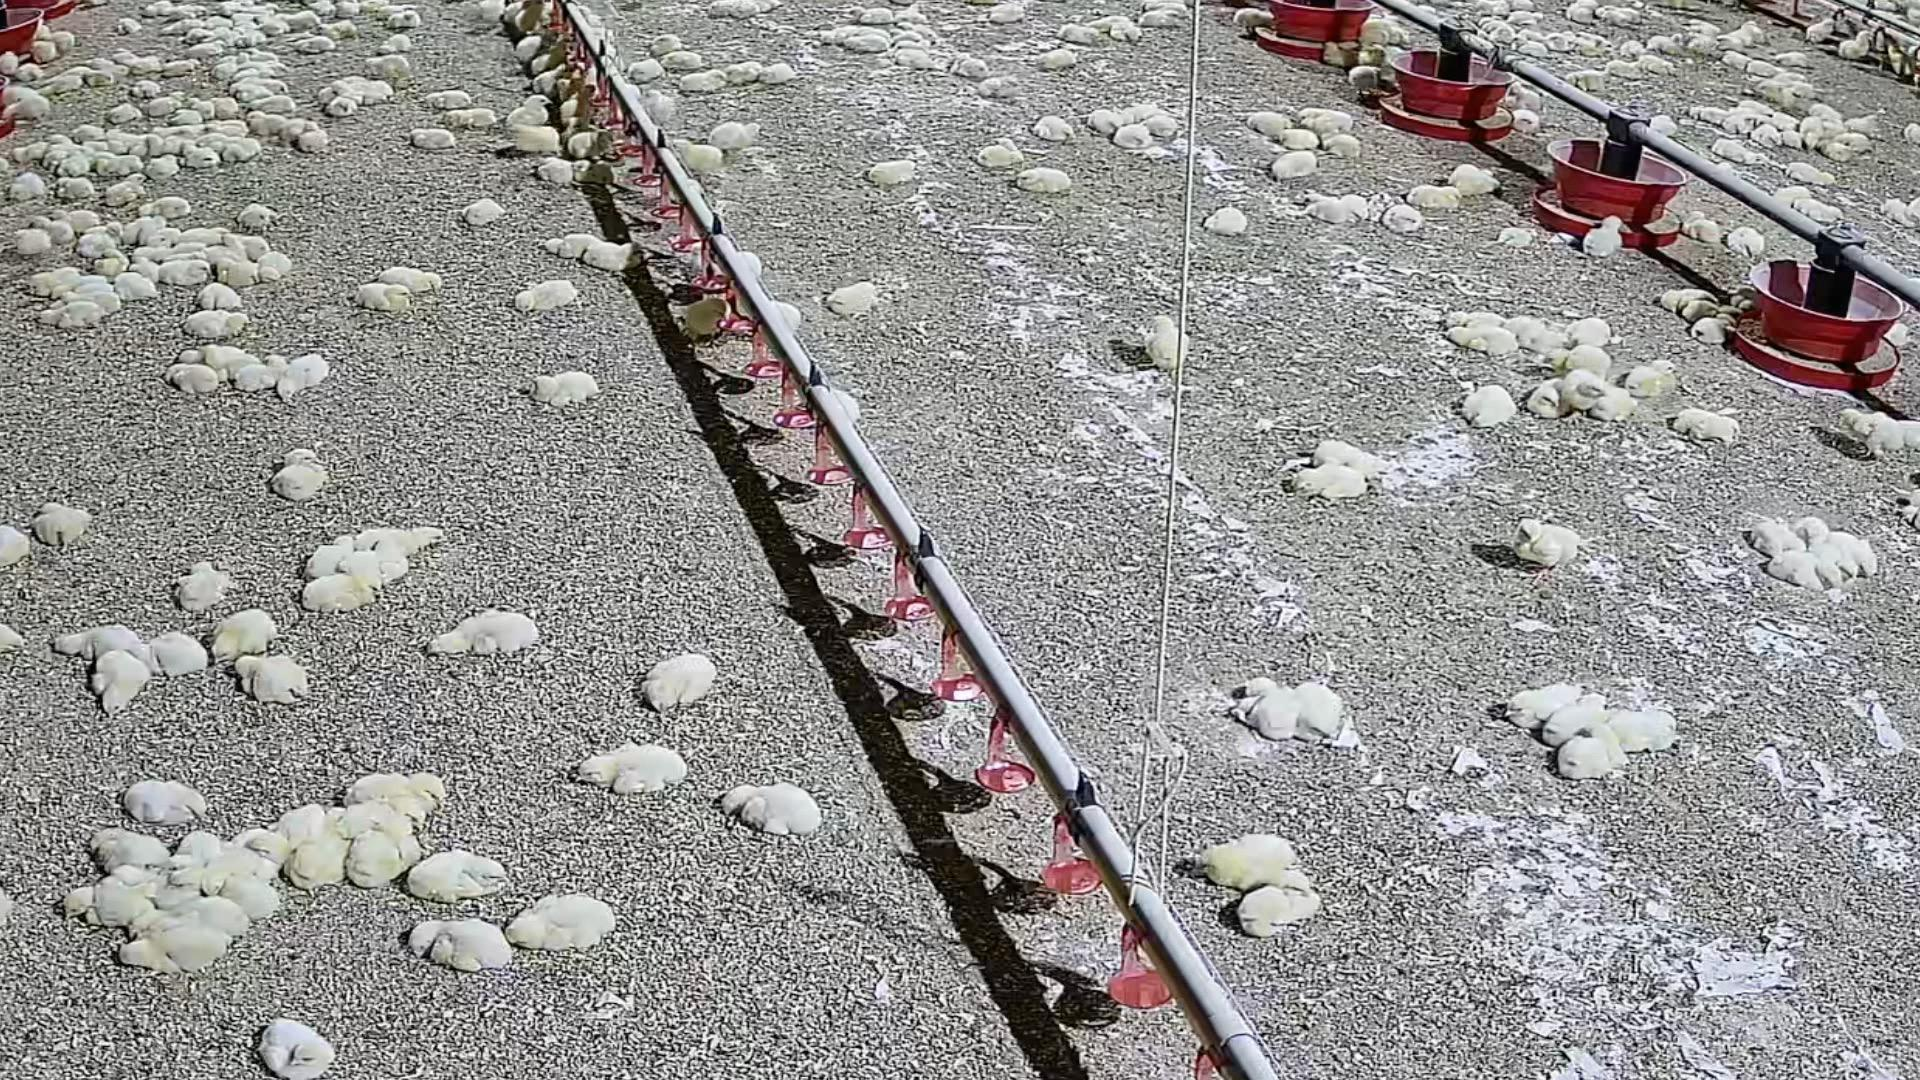poussin: (505, 890, 640, 944), (1196, 839, 1323, 890), (578, 742, 699, 793), (393, 849, 512, 898), (407, 913, 520, 964), (256, 1017, 344, 1080), (123, 928, 239, 975), (1247, 674, 1344, 729), (429, 609, 539, 657), (1234, 692, 1327, 749), (728, 786, 827, 836), (204, 829, 280, 894), (1241, 881, 1319, 939), (1605, 695, 1688, 749), (647, 655, 723, 715), (59, 881, 153, 928), (174, 870, 278, 913), (124, 901, 262, 932), (1509, 517, 1580, 576), (1801, 518, 1876, 574), (1527, 695, 1609, 745), (340, 771, 451, 808), (348, 827, 415, 886), (235, 653, 310, 705), (334, 799, 426, 841), (94, 647, 148, 717), (152, 832, 215, 890), (1502, 680, 1578, 727), (262, 807, 336, 855), (281, 844, 356, 890), (1138, 313, 1188, 377), (86, 828, 167, 868), (214, 609, 273, 663), (1842, 405, 1895, 462), (1553, 738, 1629, 778), (175, 563, 232, 613), (1294, 463, 1375, 497), (527, 369, 600, 407), (1675, 407, 1745, 447), (340, 551, 414, 588), (1313, 438, 1386, 475), (125, 783, 208, 815), (142, 637, 204, 679), (1776, 553, 1834, 597), (302, 576, 377, 611), (50, 630, 141, 658), (686, 298, 731, 353), (585, 236, 646, 277), (37, 505, 94, 549), (276, 448, 326, 497), (274, 360, 332, 401), (360, 526, 450, 553), (1464, 386, 1515, 429), (1506, 318, 1563, 355), (306, 537, 353, 580), (1547, 344, 1614, 375), (513, 280, 578, 310), (1323, 44, 1390, 73), (825, 281, 878, 318), (219, 257, 285, 286), (510, 125, 567, 158), (670, 136, 720, 173), (1838, 25, 1882, 67), (166, 367, 222, 400), (187, 313, 252, 340), (1584, 215, 1626, 257), (385, 269, 446, 298), (864, 156, 919, 187), (1300, 193, 1364, 220), (1629, 360, 1676, 397), (1818, 545, 1861, 585), (1712, 135, 1768, 165), (558, 84, 595, 131), (1443, 332, 1523, 353), (237, 357, 289, 390), (506, 96, 556, 129), (360, 284, 414, 314), (712, 120, 764, 152), (1565, 368, 1600, 415), (1033, 116, 1083, 148), (760, 303, 806, 338), (1592, 385, 1638, 419), (572, 158, 620, 191), (204, 136, 265, 161), (1448, 164, 1499, 193), (1793, 198, 1845, 227), (199, 345, 258, 371), (1014, 167, 1073, 193), (1749, 520, 1804, 546), (976, 138, 1023, 169), (1568, 316, 1611, 349), (38, 306, 115, 324), (103, 173, 149, 203), (198, 282, 244, 313), (1274, 152, 1320, 182), (531, 61, 574, 94), (0, 527, 32, 571), (1505, 82, 1552, 111), (827, 389, 862, 427), (1295, 107, 1356, 129), (1228, 7, 1279, 33), (1783, 160, 1833, 186), (79, 223, 124, 252), (1382, 203, 1423, 235), (50, 207, 99, 233), (459, 199, 506, 225), (1677, 301, 1735, 322), (676, 69, 725, 94), (164, 258, 210, 285), (1203, 208, 1249, 235), (1655, 291, 1720, 310), (236, 113, 286, 137), (1098, 15, 1139, 44), (1801, 16, 1846, 42), (1684, 210, 1720, 243), (1733, 225, 1766, 261), (516, 30, 554, 61), (55, 177, 99, 203), (239, 202, 282, 228), (1772, 47, 1816, 74), (233, 232, 274, 260), (530, 41, 571, 69), (539, 153, 572, 187), (361, 57, 409, 80), (1350, 65, 1386, 96), (1535, 380, 1567, 415), (8, 229, 53, 255), (891, 50, 936, 75), (1412, 185, 1462, 207), (1056, 21, 1095, 50), (1276, 128, 1323, 152), (113, 272, 157, 297), (36, 220, 76, 247), (1320, 133, 1361, 160), (8, 174, 45, 203), (550, 233, 604, 253), (409, 125, 454, 149), (1362, 18, 1410, 41), (1497, 225, 1542, 249), (1845, 109, 1887, 135), (109, 131, 149, 157), (1894, 417, 1919, 458), (181, 224, 232, 244), (62, 291, 121, 309), (978, 4, 1030, 24), (1697, 315, 1735, 342), (752, 65, 796, 87), (642, 90, 673, 123), (244, 98, 298, 116), (29, 269, 83, 287), (42, 73, 88, 94), (355, 78, 392, 104), (1643, 51, 1680, 78), (661, 49, 702, 73), (1800, 112, 1824, 153), (123, 216, 161, 241), (951, 53, 989, 78), (568, 135, 613, 156), (182, 142, 222, 166), (1145, 112, 1180, 138), (1448, 310, 1502, 327), (1033, 51, 1076, 73), (1247, 111, 1291, 132), (0, 618, 28, 651), (1106, 128, 1153, 148), (725, 58, 764, 82), (1087, 112, 1135, 131), (808, 21, 851, 42), (148, 154, 179, 182), (46, 29, 79, 55), (8, 100, 51, 120), (1501, 113, 1544, 133), (287, 36, 338, 53), (59, 154, 94, 179), (847, 8, 897, 25), (649, 32, 684, 55), (1648, 111, 1679, 138), (1572, 70, 1614, 90), (446, 112, 497, 128), (145, 198, 196, 214), (1514, 38, 1548, 62), (1609, 58, 1647, 79), (29, 40, 58, 67), (314, 21, 357, 40), (426, 94, 469, 112), (1734, 286, 1763, 314), (303, 121, 326, 157), (331, 82, 367, 104), (1775, 183, 1807, 208), (1135, 12, 1182, 29), (516, 0, 542, 29), (841, 37, 882, 55), (153, 123, 200, 138), (94, 156, 141, 171), (225, 82, 269, 99), (559, 69, 592, 91), (385, 13, 425, 32), (1485, 18, 1513, 45), (629, 58, 658, 83), (189, 41, 227, 59), (149, 95, 182, 116), (91, 58, 128, 76), (108, 105, 142, 125), (82, 67, 113, 88), (251, 78, 293, 94), (200, 124, 243, 140), (131, 80, 162, 102), (208, 98, 239, 119), (74, 121, 105, 141), (1126, 99, 1159, 117), (189, 103, 219, 123), (369, 4, 414, 17), (3, 86, 42, 100), (166, 59, 199, 76), (166, 108, 199, 125), (378, 36, 414, 51), (0, 50, 21, 76), (162, 24, 207, 36), (247, 63, 291, 75), (326, 100, 357, 116), (1551, 29, 1575, 50), (131, 58, 161, 74), (141, 136, 173, 150), (286, 12, 320, 25), (244, 46, 278, 59), (116, 18, 142, 33), (17, 65, 42, 79), (856, 32, 894, 37)
